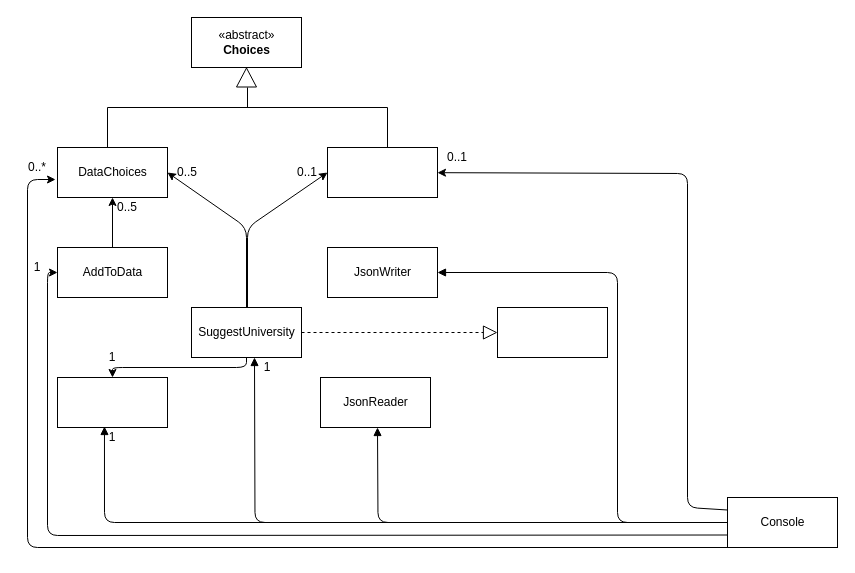
Image size: 855x573. Some labels were removed from this diagram. The box of each missing label's shape, as (x1, y1, x2, y2) in pixels:
ChoicesList: (56, 376, 168, 428)
UserChoices: (326, 146, 438, 198)
«interface» Writable: (496, 306, 608, 358)
